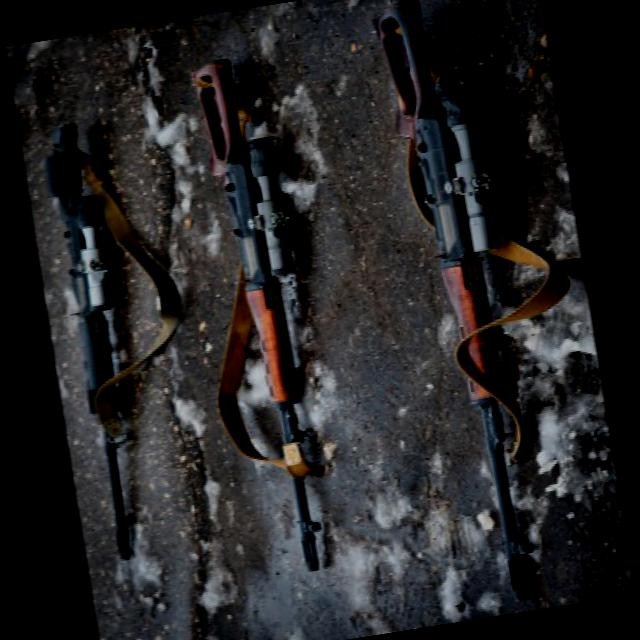long weapon: (369, 0, 563, 613), (160, 43, 350, 591), (25, 109, 178, 576)
